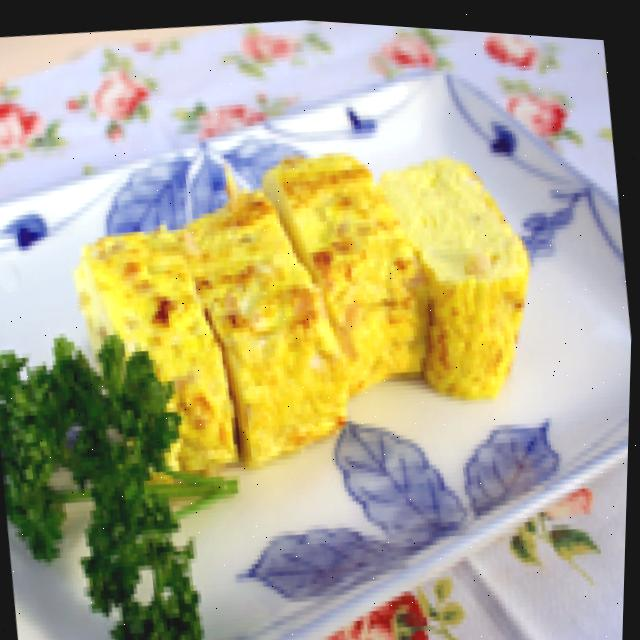鸡蛋料理: (42, 92, 558, 503)
